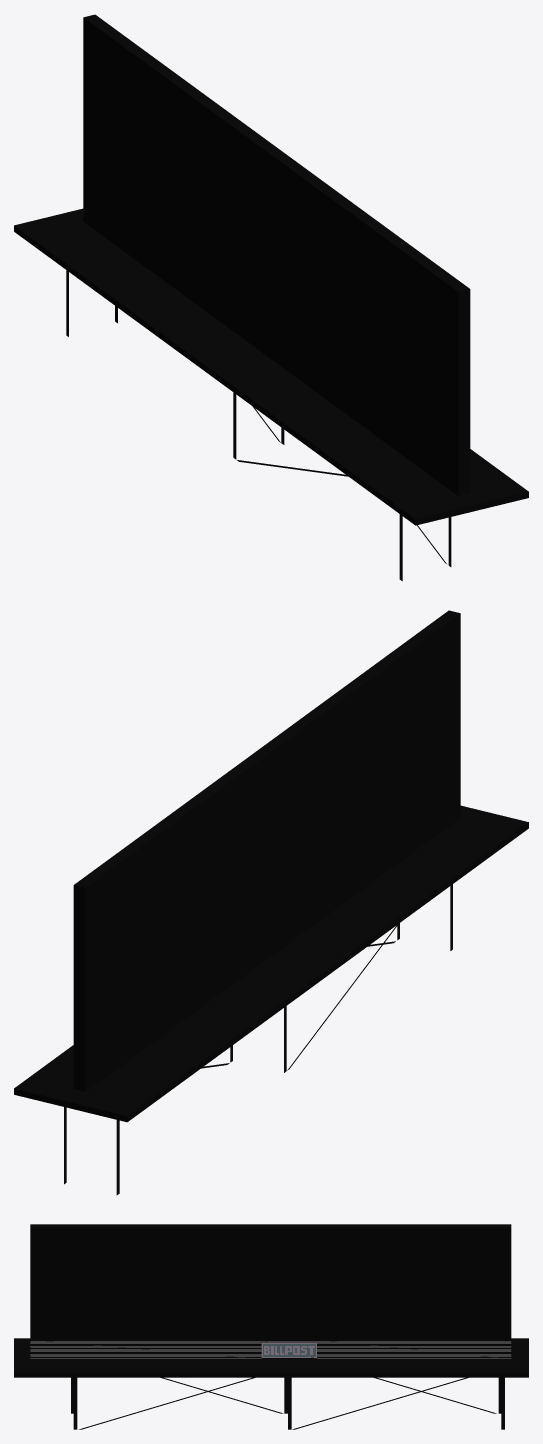
The model's file is billboard.glb.
The picture shows the model from 3 angles, top to bottom: view 1: azimuth 30°, elevation 25°; view 2: azimuth 150°, elevation 25°; view 3: azimuth 270°, elevation 25°; orthographic projection. The views are drawn at different scales.
Visible parts, largest first — view 1: Cube.001; view 2: Cube.001; view 3: Cube.001.
Part boxes in pixels (<box>): Cube.001: <box>14,14,528,581</box>; Cube.001: <box>14,610,528,1195</box>; Cube.001: <box>14,1224,528,1429</box>.
Size of the model in its own units: 2.32 by 6.01 by 14.25.
Materials: 1 (1 with a texture image).
